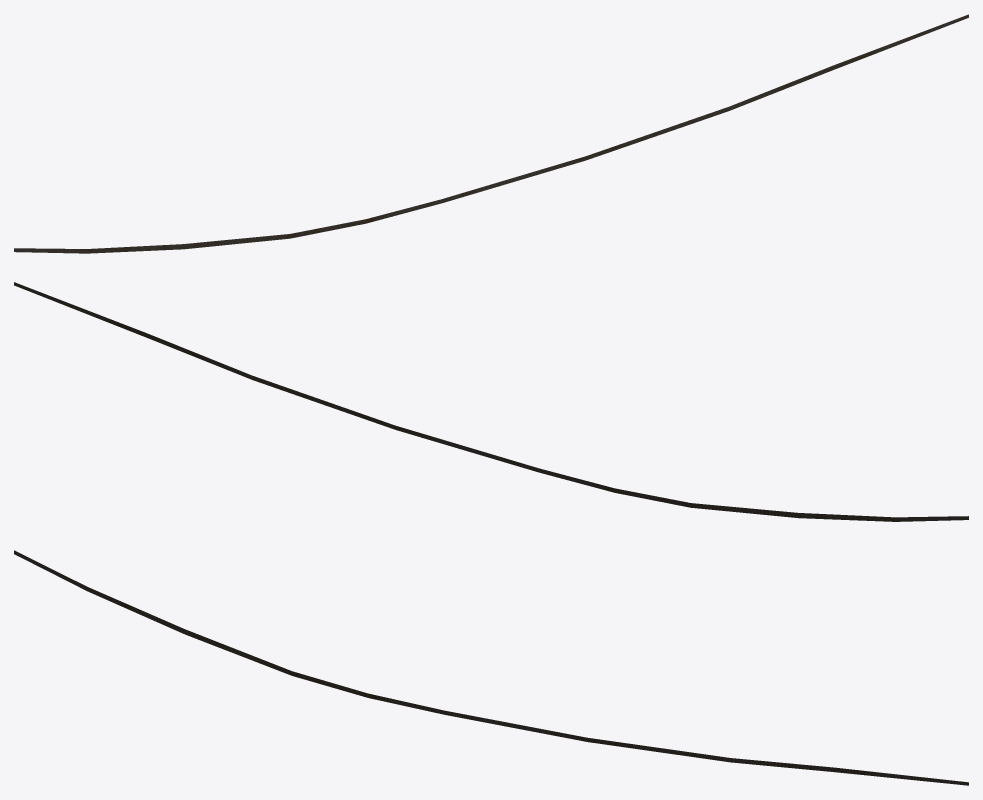
Rendered from Rope_02.FBX.
3 views of the same model, one above another, from view 1: azimuth 30°, elevation 25°; view 2: azimuth 150°, elevation 25°; view 3: azimuth 330°, elevation 25° (orthographic).
Visible parts, largest first — view 1: Rope_02; view 2: Rope_02; view 3: Rope_02.
Part boxes in pixels (x1,y1,x2,y2): Rope_02: (14, 14, 968, 253); Rope_02: (14, 282, 968, 521); Rope_02: (14, 550, 968, 785).
Size of the model in its own units: 541 by 34.22 by 1.
